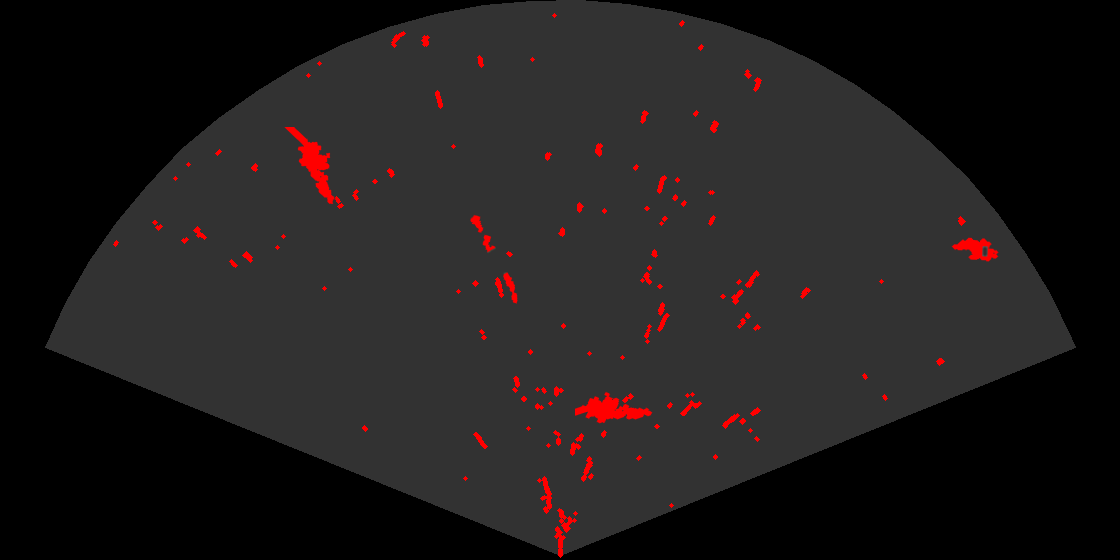AUV: (950, 236, 1000, 263)
chain: (469, 213, 519, 305)
frogman: (283, 127, 336, 206), (575, 390, 654, 425)
